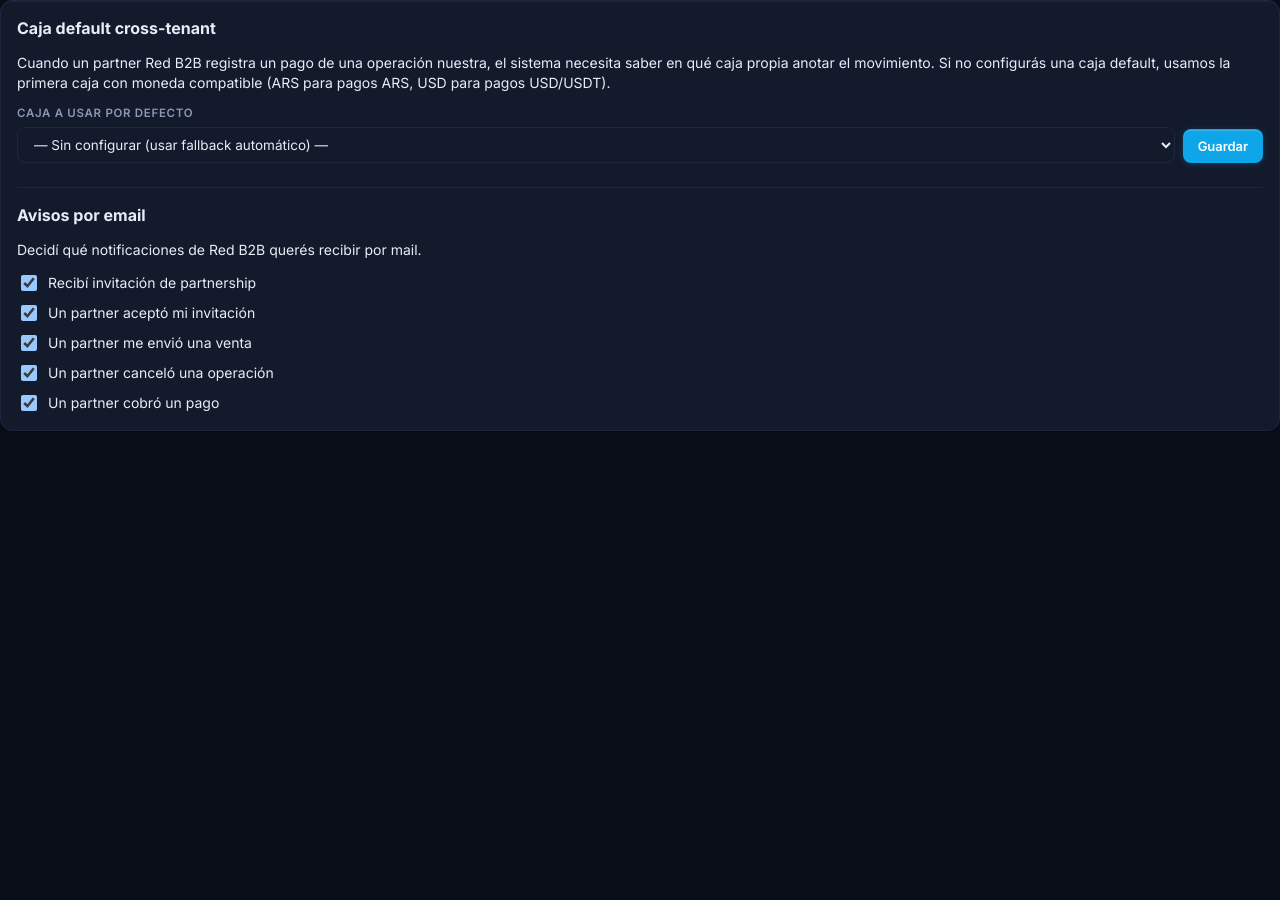
Test: RedB2BConfigContent — email prefs (PR-X1 #465) › optimistic update: UI cambia antes que la promesa resuelva, y revierte si rejecta
Expected: the heading "Avisos por email" is shown, [17, 205, 146, 225]
Click the checkbox labelled "Un partner cobró un pago" at (29, 403), box [21, 395, 37, 411]
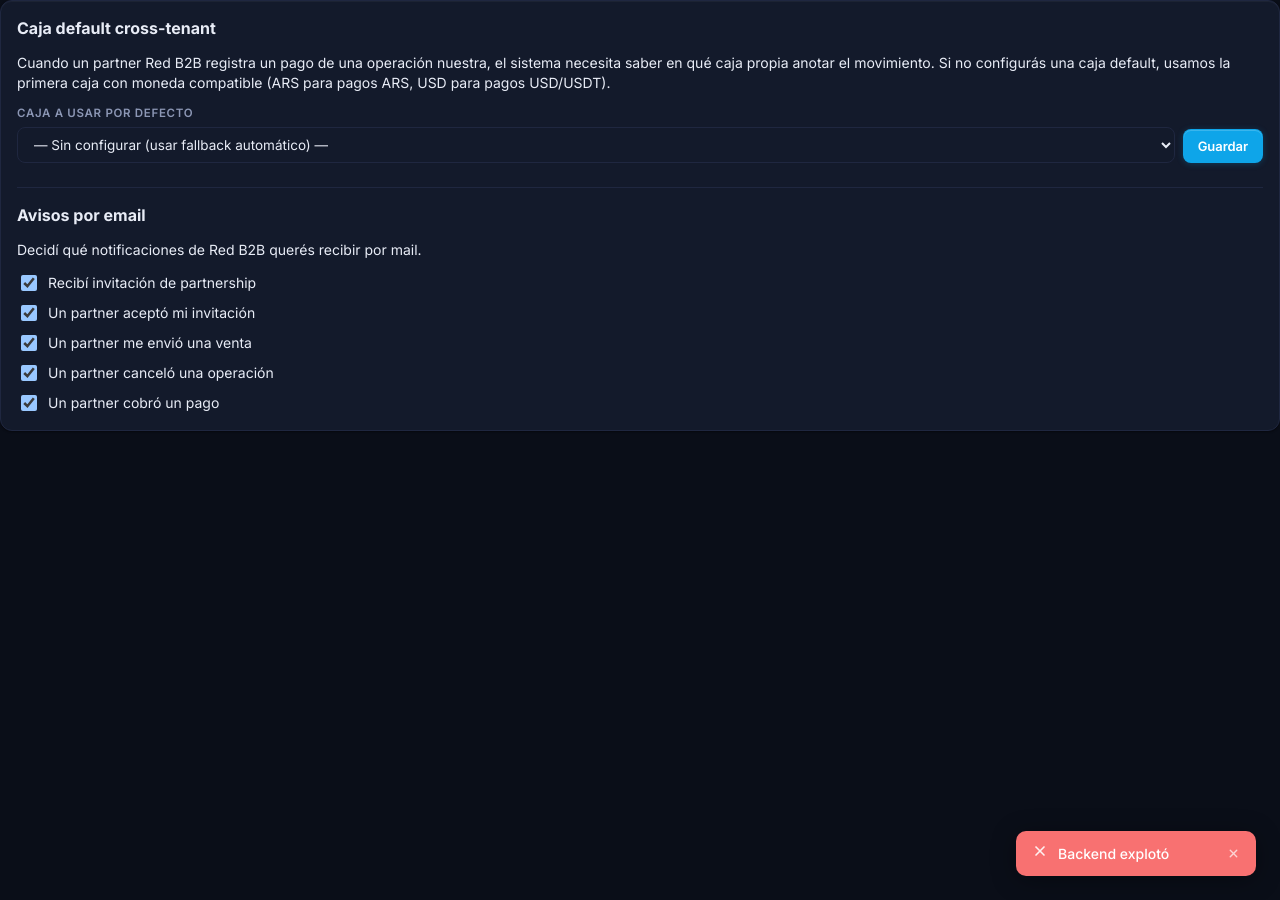
Now the text "Backend explotó" is shown, box [1058, 845, 1169, 862]
